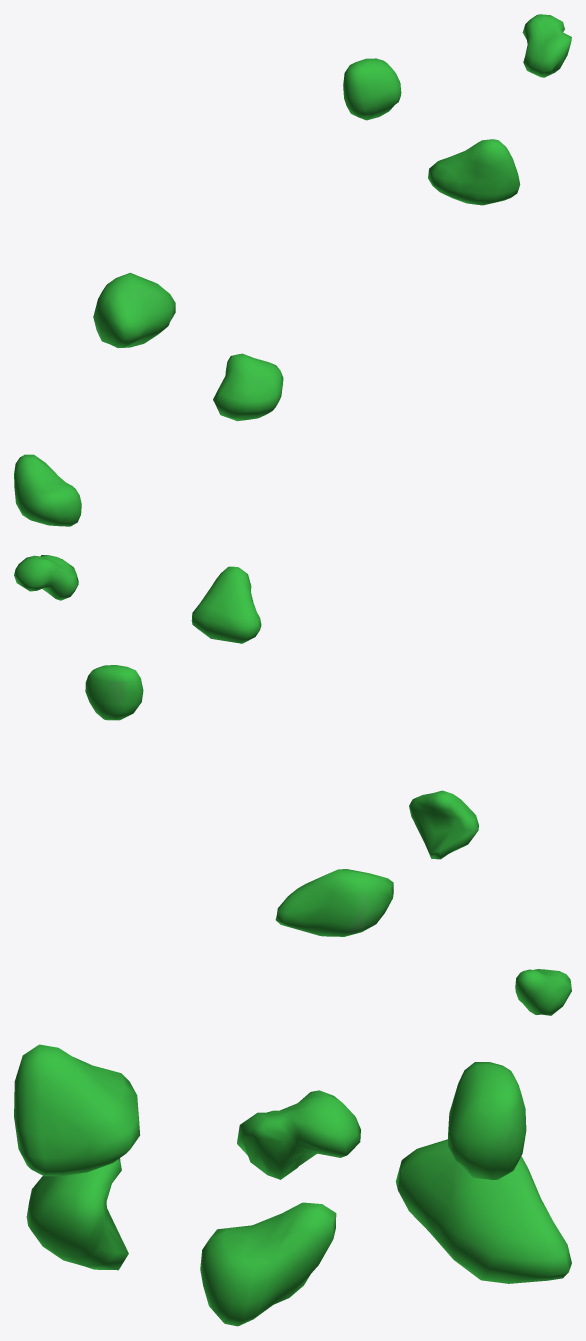
Rendered from Tree Leaf Blocks.fbx.
3 views of the same model, one above another, from view 1: azimuth 30°, elevation 25°; view 2: azimuth 150°, elevation 25°; view 3: azimuth 270°, elevation 25° (orthographic). The views are drawn at different scales.
Visible parts, largest first — view 1: Group56277, Group43746, Group61412, Group26079, Group8411, Group26634; view 2: Group56277, Group43746, Group26079, Group8411, Group61412, Group26634; view 3: Group56277, Group43746, Group61412, Group26079, Group8411, Group26634.
Boxes of the visible parts, x1,y1,x2,y2 form: Group56277: [93, 272, 175, 348]; Group43746: [428, 139, 520, 205]; Group61412: [14, 454, 81, 526]; Group26079: [213, 353, 283, 421]; Group8411: [343, 58, 401, 120]; Group26634: [522, 14, 571, 77]; Group56277: [275, 869, 393, 936]; Group43746: [191, 566, 261, 643]; Group26079: [409, 790, 478, 859]; Group8411: [85, 665, 143, 720]; Group61412: [515, 969, 571, 1015]; Group26634: [14, 555, 78, 600]; Group56277: [395, 1139, 571, 1283]; Group43746: [14, 1044, 139, 1176]; Group61412: [200, 1202, 336, 1326]; Group26079: [26, 1158, 128, 1270]; Group8411: [448, 1062, 526, 1179]; Group26634: [237, 1090, 360, 1179].
Bounding box in the file's own units: 9.29 × 5.87 × 4.48.
